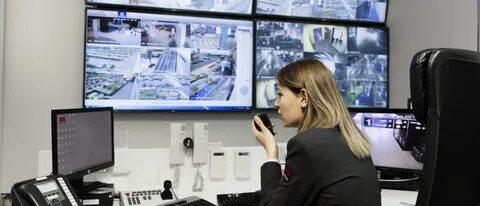awake: (249, 58, 382, 206)
